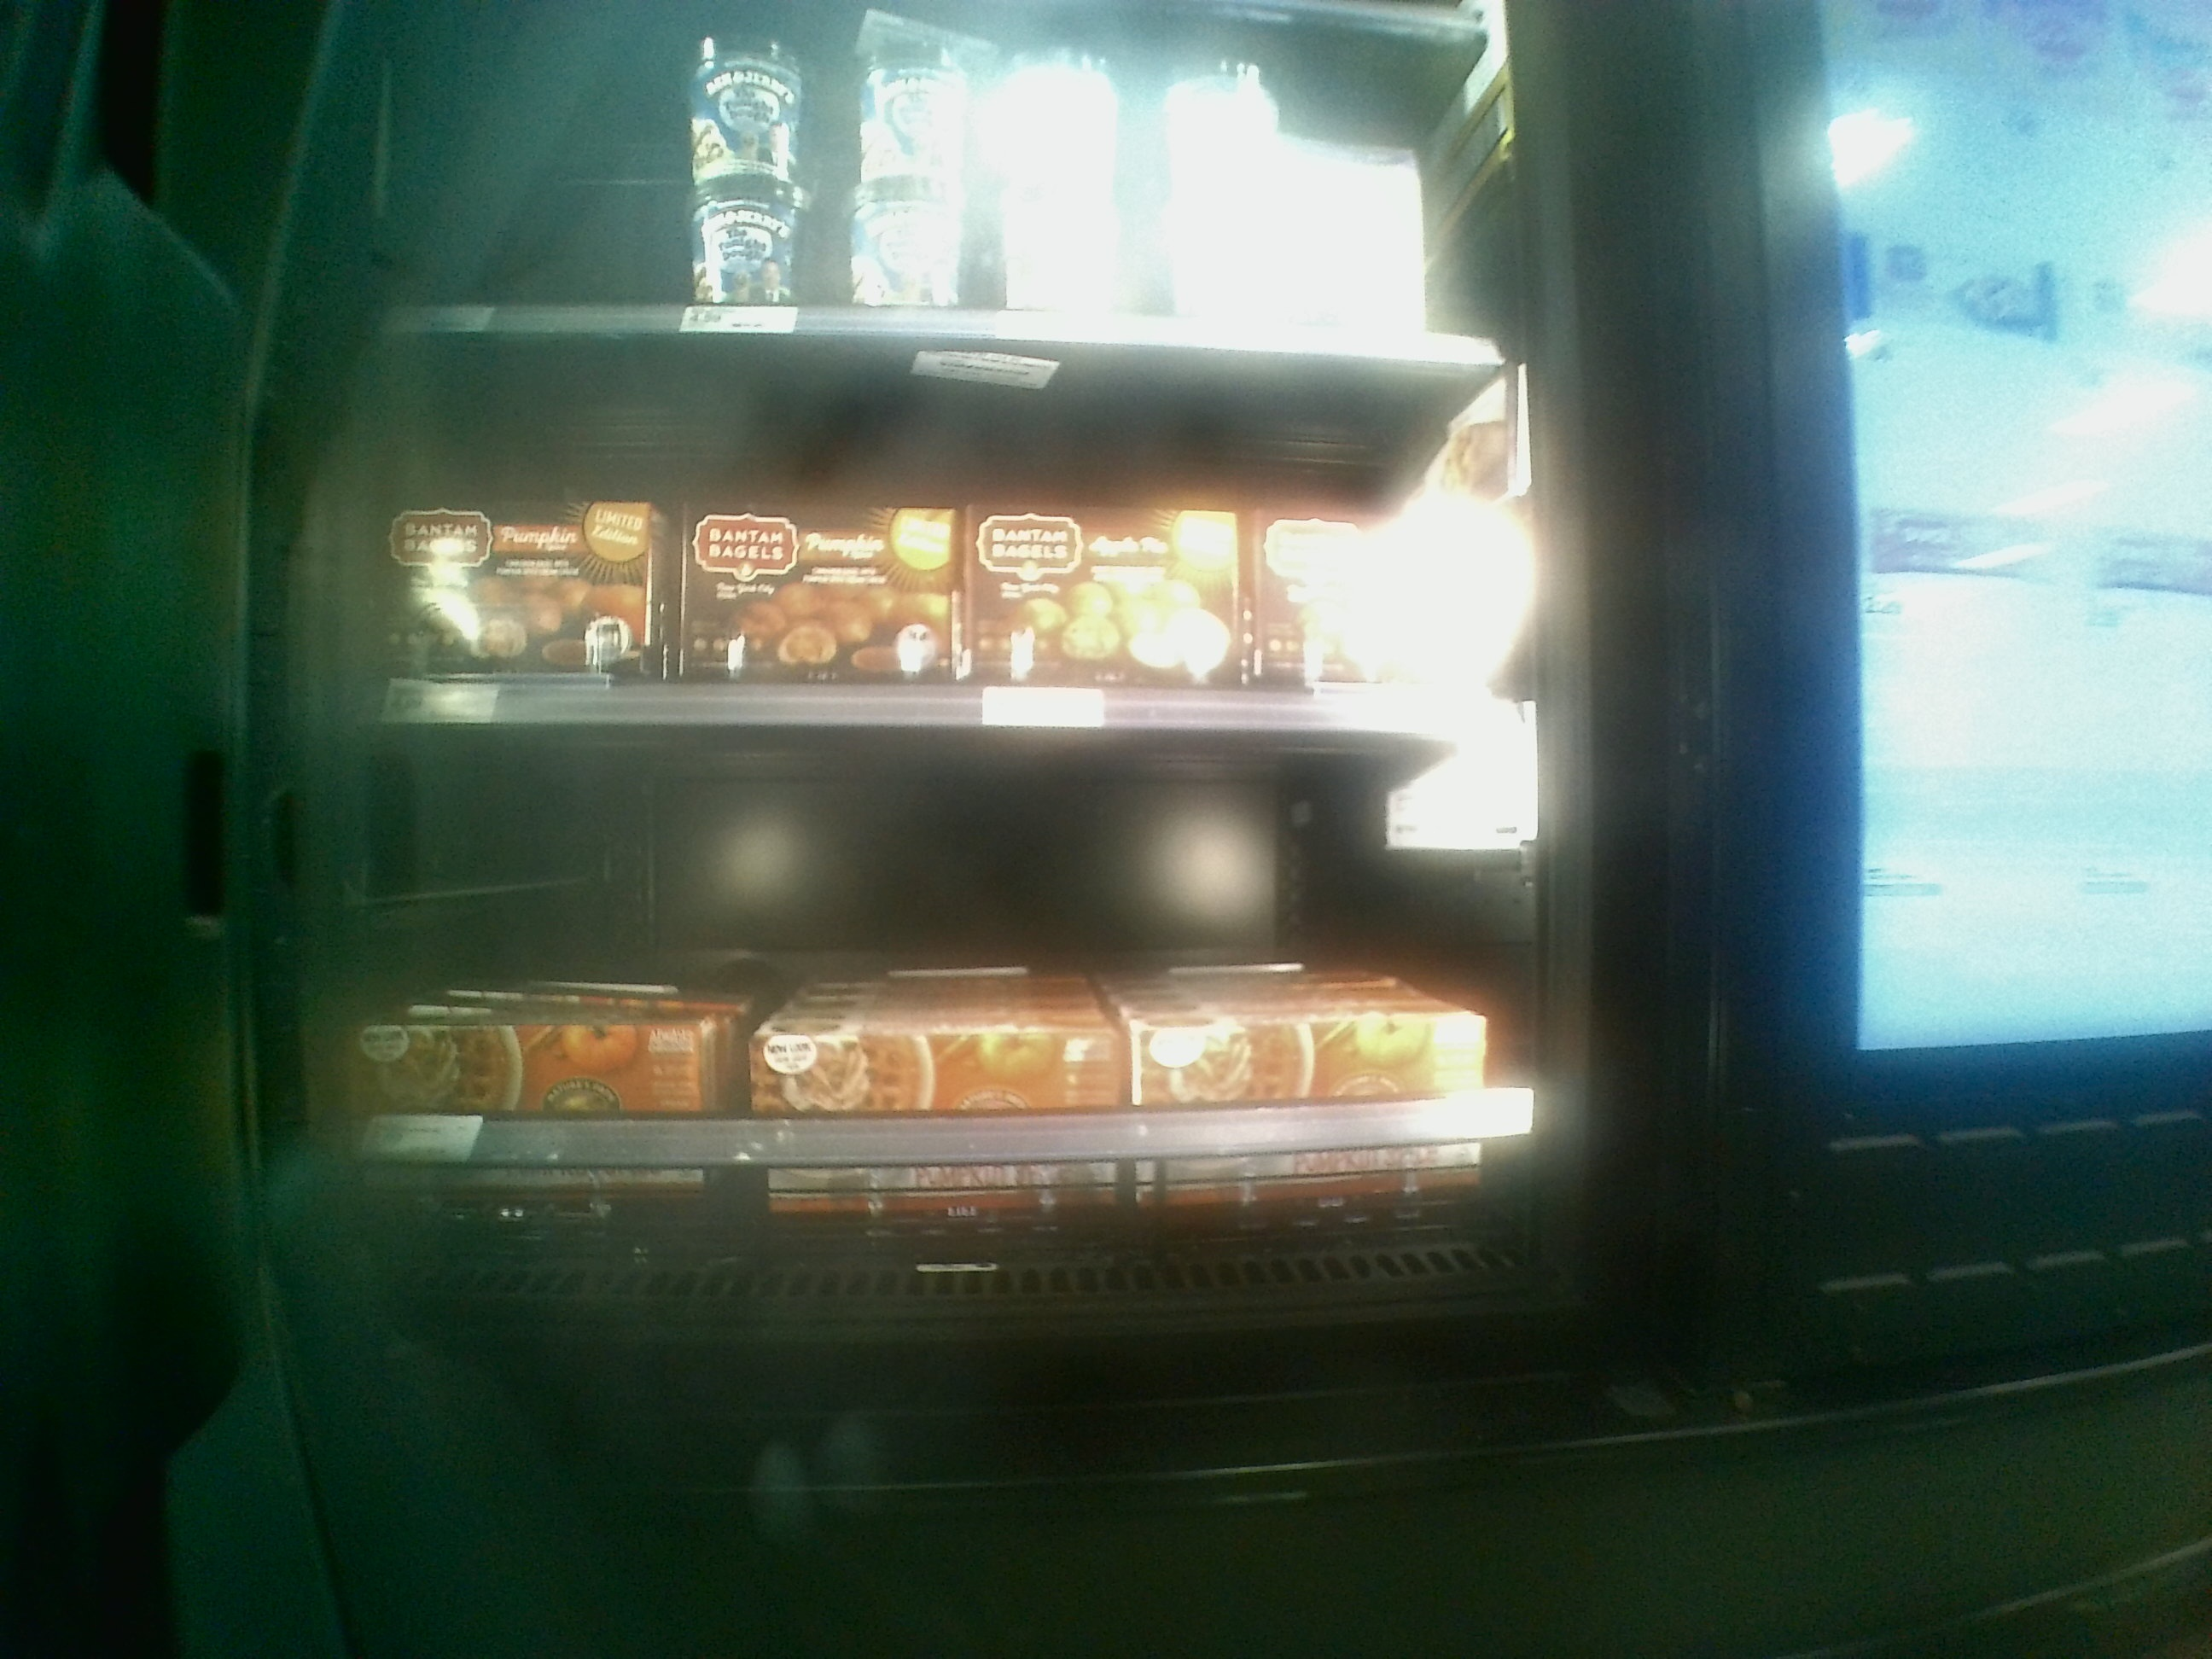shelf: (327, 690, 1554, 1331), (354, 314, 1540, 746)
